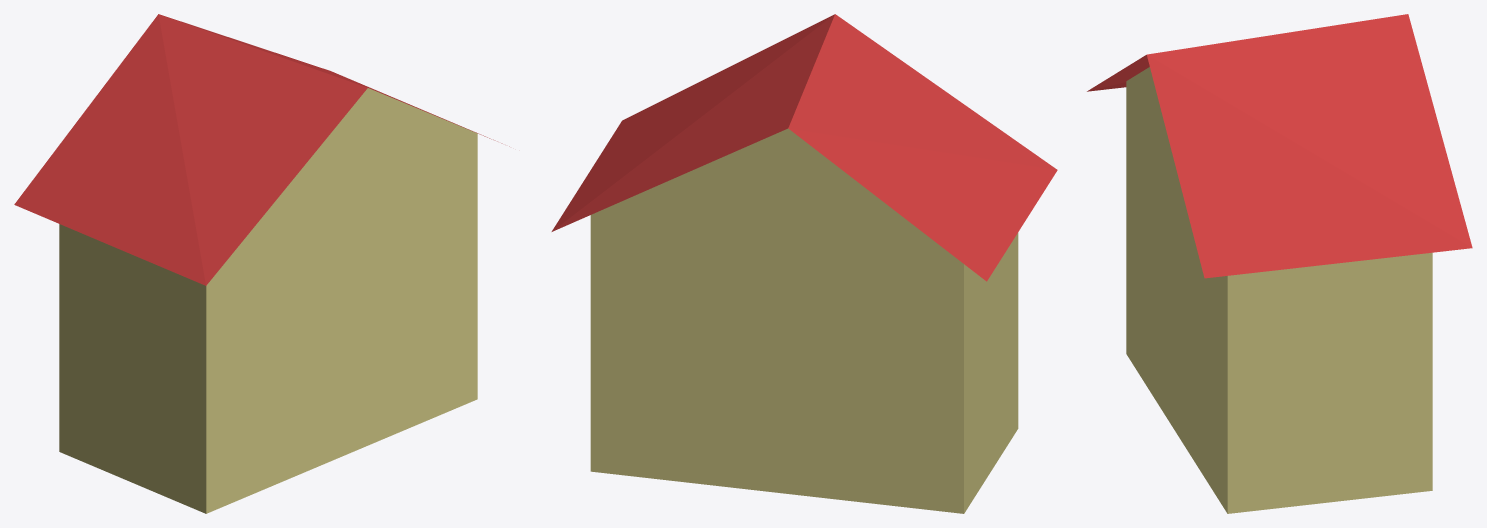
3 renders of one model, left to right at view 1: azimuth 30°, elevation 25°; view 2: azimuth 150°, elevation 25°; view 3: azimuth 270°, elevation 25°, orthographic. The views are drawn at different scales.
Size of the model in its own units: 11.81 by 8.89 by 9.77.
